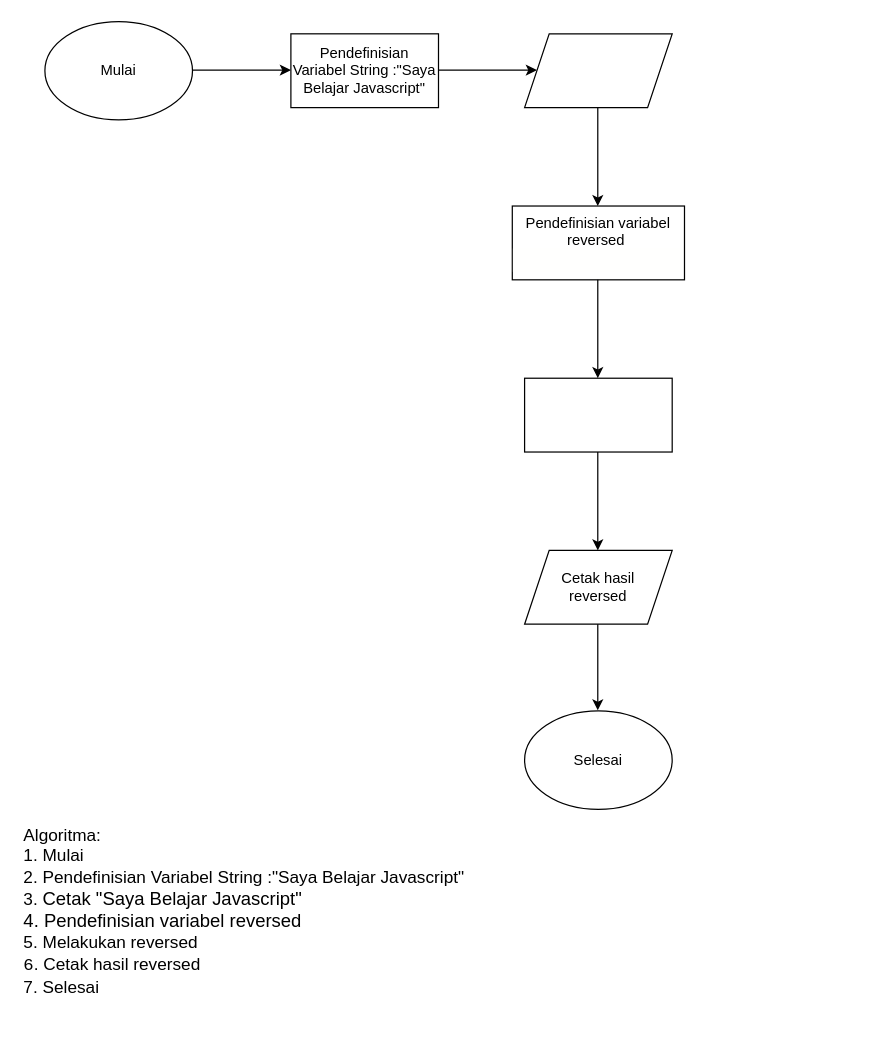
Image size: 878x1060. Some labels were removed from this diagram. Here are the shapes that lost their labels. From the top down, the centre of each, then its label:
[597,70]: Cetak "Saya Belajar Javascript"
[597,414]: Melakukan reversed
